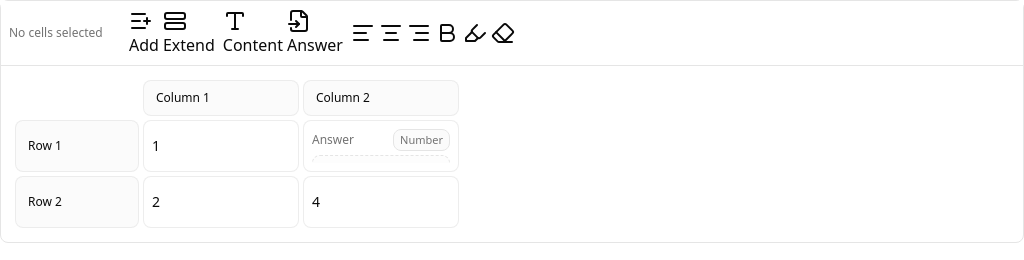
TableCanvas › supports mobile-visible add selection mode
The image size is (1024, 260).
Press the mouse on the button "1" at (221, 146), box [143,120,299,172]
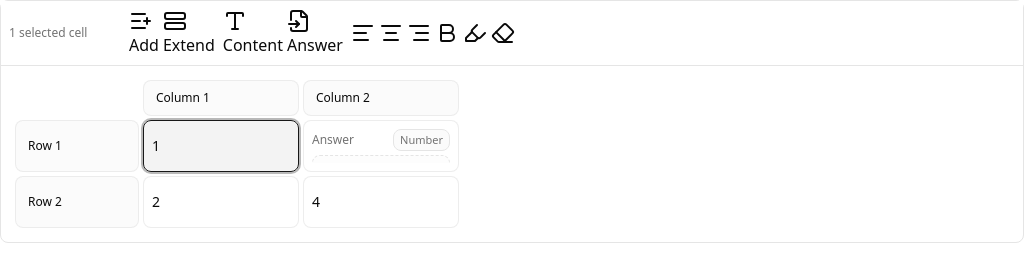
Click the button "Add" at (144, 33), box [129,9,159,57]
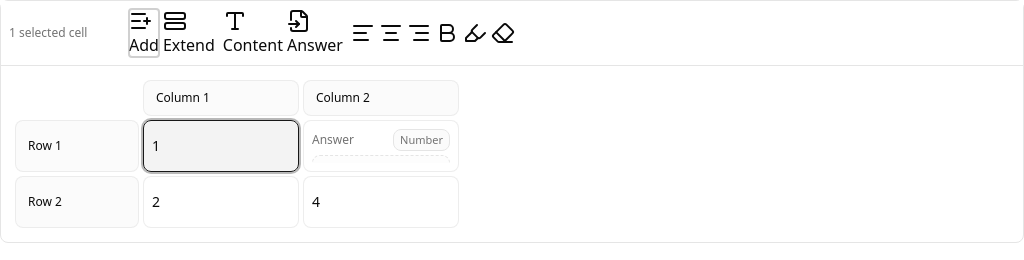
Press the mouse on the button "4" at (381, 202), box [303,176,459,228]
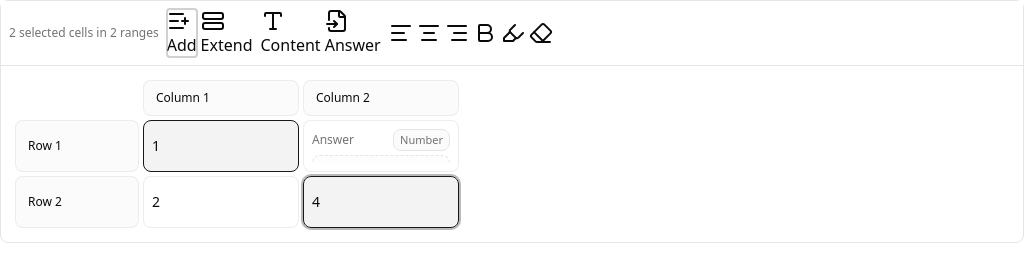
Now the text "2 selected cells in 2 ranges" is shown, box [9,25,159,41]
